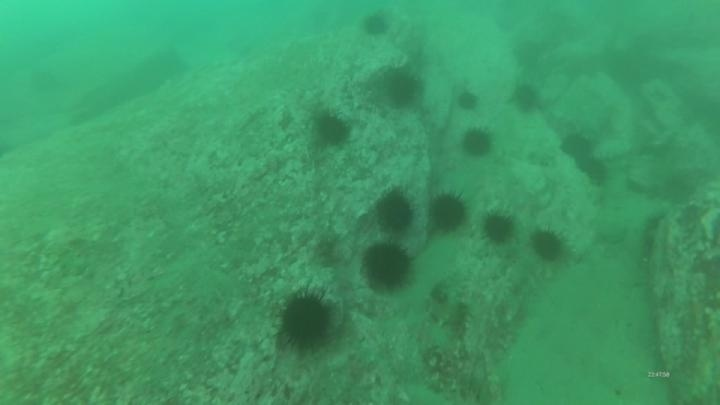echinus: (276, 286, 338, 353), (360, 240, 414, 292), (373, 187, 416, 234), (427, 190, 470, 234), (382, 66, 424, 109), (312, 109, 353, 148), (529, 226, 567, 264), (480, 210, 517, 246), (459, 126, 495, 160), (575, 154, 611, 187), (510, 37, 546, 70), (558, 131, 595, 163), (510, 81, 543, 116), (359, 11, 392, 39), (454, 88, 481, 113)
holothurian: (423, 279, 471, 337)
starfish: (412, 318, 458, 357)
